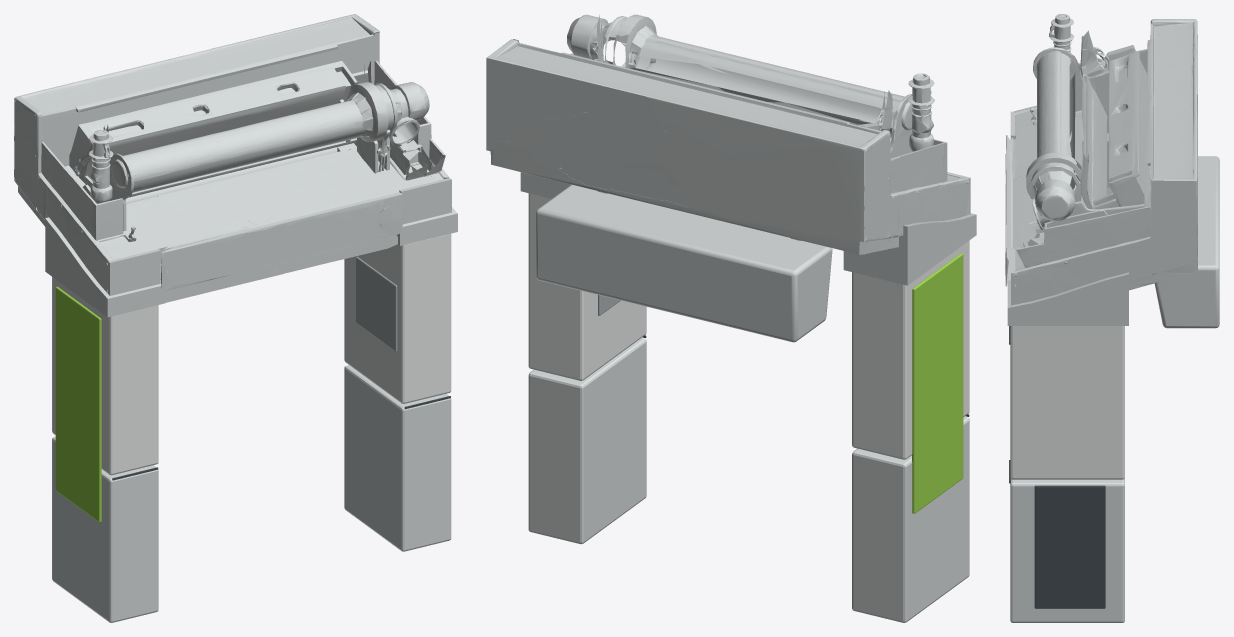
File: JWF0019A-第15轮清除顶部旧白色管道.glb
The picture shows the model from 3 angles, left to right: view 1: azimuth 30°, elevation 25°; view 2: azimuth 150°, elevation 25°; view 3: azimuth 270°, elevation 25°; orthographic projection. The views are drawn at different scales.
Visible parts, largest first — view 1: 第10轮_母版保形上部外观_锁定, 右支腿_下柜体, 左支腿_下柜体, 右支腿_上柜体, 左支腿_上柜体, 左支腿_外侧绿色饰板, 右立柱_内侧电柜门, 第11轮_精灵眼前缘横向圆管; view 2: 第10轮_母版保形上部外观_锁定, 第11轮_精灵眼悬挂直角梯形罩壳, 右支腿_下柜体, 左支腿_下柜体, 左支腿_上柜体, 左支腿_外侧绿色饰板, 右支腿_上柜体; view 3: 第10轮_母版保形上部外观_锁定, 右支腿_上柜体, 右支腿_外侧散热面板, 右支腿_下柜体, 第11轮_精灵眼悬挂直角梯形罩壳.
Part boxes in pixels (bbox=[...]): 第10轮_母版保形上部外观_锁定: bbox=[14, 14, 457, 317]; 右支腿_下柜体: bbox=[344, 365, 451, 551]; 左支腿_下柜体: bbox=[52, 437, 158, 622]; 右支腿_上柜体: bbox=[344, 233, 451, 403]; 左支腿_上柜体: bbox=[52, 277, 158, 475]; 左支腿_外侧绿色饰板: bbox=[55, 286, 101, 522]; 右立柱_内侧电柜门: bbox=[356, 256, 397, 351]; 第11轮_精灵眼前缘横向圆管: bbox=[126, 147, 336, 203]; 第10轮_母版保形上部外观_锁定: bbox=[486, 14, 976, 291]; 第11轮_精灵眼悬挂直角梯形罩壳: bbox=[536, 184, 832, 342]; 右支腿_下柜体: bbox=[528, 338, 646, 544]; 左支腿_下柜体: bbox=[852, 417, 969, 622]; 左支腿_上柜体: bbox=[852, 240, 969, 459]; 左支腿_外侧绿色饰板: bbox=[912, 253, 963, 513]; 右支腿_上柜体: bbox=[528, 193, 646, 380]; 第10轮_母版保形上部外观_锁定: bbox=[1005, 14, 1197, 325]; 右支腿_上柜体: bbox=[1010, 326, 1124, 479]; 右支腿_外侧散热面板: bbox=[1034, 485, 1105, 608]; 右支腿_下柜体: bbox=[1010, 478, 1124, 622]; 第11轮_精灵眼悬挂直角梯形罩壳: bbox=[1154, 156, 1219, 328].
Size of the model in its own units: 3.2 by 4.09 by 1.75.
